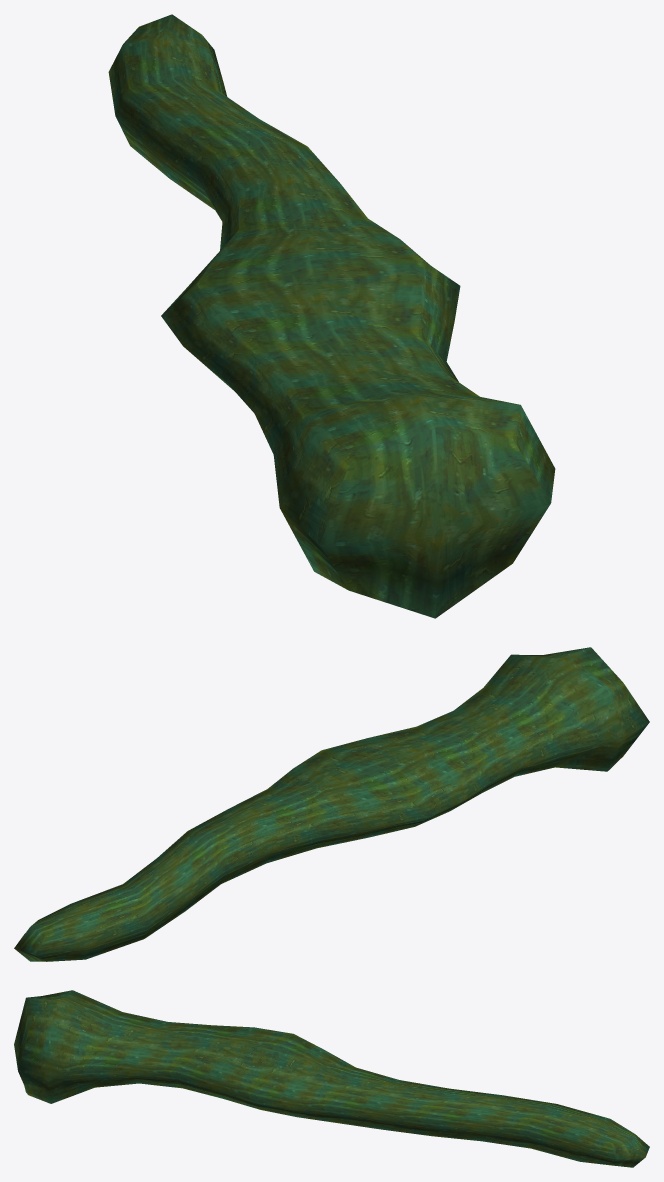
Rendered from MIRKWOOD_MIRK_PLAYSURFACE220.fbx.
The picture shows the model from 3 angles, top to bottom: view 1: azimuth 30°, elevation 25°; view 2: azimuth 150°, elevation 25°; view 3: azimuth 270°, elevation 25°; orthographic projection. The views are drawn at different scales.
Parts seen in each view (by area): view 1: MIRKWOOD_MIRK_PLAYSURFACE220; view 2: MIRKWOOD_MIRK_PLAYSURFACE220; view 3: MIRKWOOD_MIRK_PLAYSURFACE220.
Boxes of the visible parts, <box> form: MIRKWOOD_MIRK_PLAYSURFACE220: <box>108,14,555,618</box>; MIRKWOOD_MIRK_PLAYSURFACE220: <box>14,647,649,961</box>; MIRKWOOD_MIRK_PLAYSURFACE220: <box>14,990,649,1167</box>.
Bounding box in the file's own units: 43219 × 16563 × 99809.
Materials: 1 (1 with a texture image).
